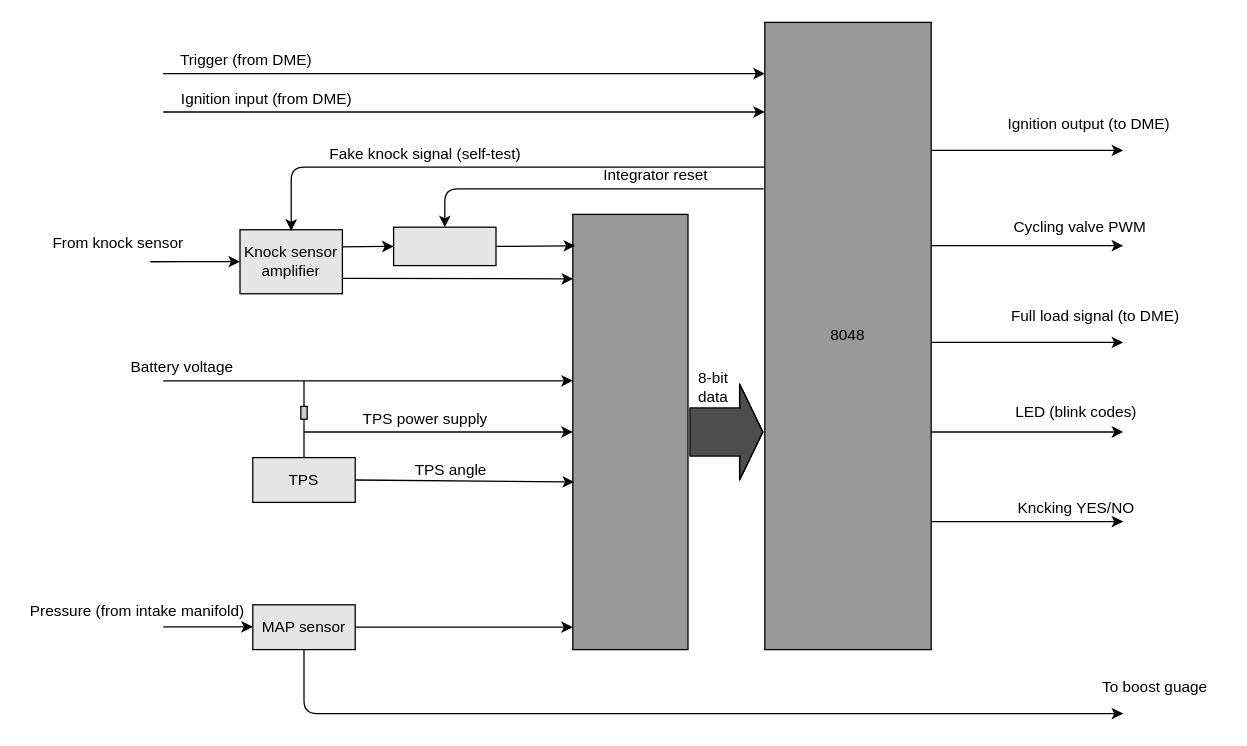
The diagram is 1247 pixels wide and 746 high, and some of its shapes have lost their labels. Each missing label, with the centre of its shape:
"ADC" belongs at (x=630, y=431).
"Integrator" belongs at (x=444, y=246).
